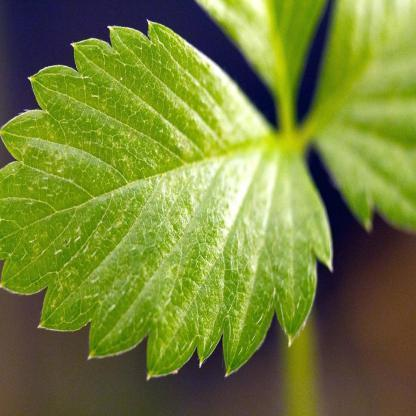Strawberry leaf: (1, 8, 332, 378)
